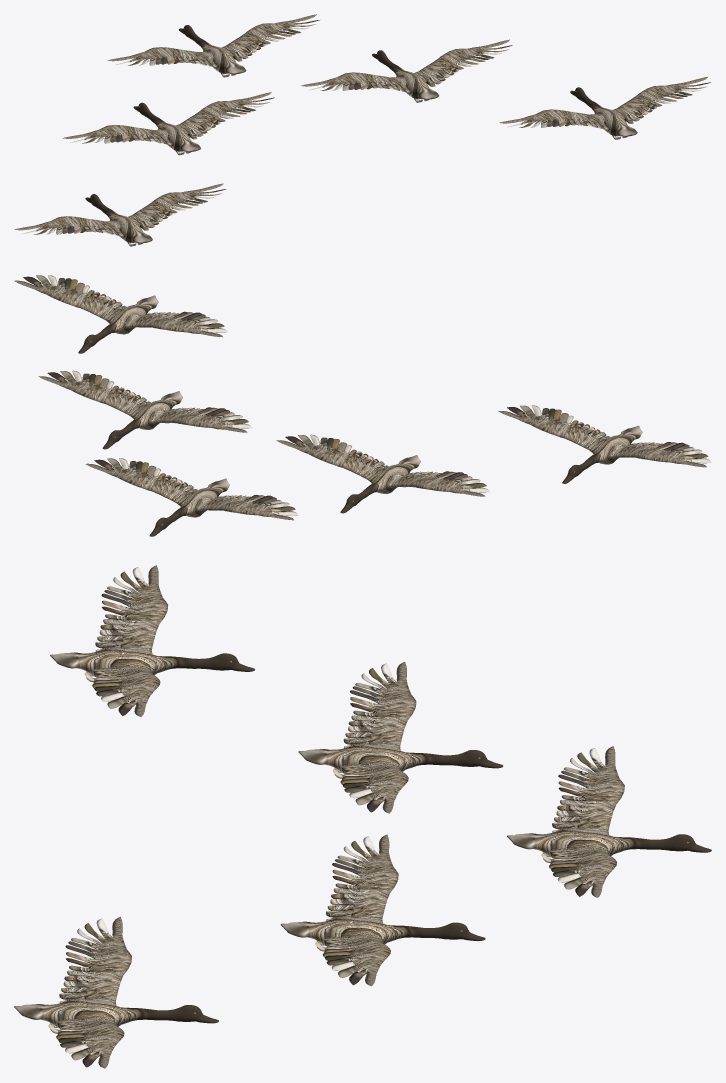
Rendered from birds.obj.
The picture shows the model from 3 angles, top to bottom: view 1: azimuth 30°, elevation 25°; view 2: azimuth 150°, elevation 25°; view 3: azimuth 270°, elevation 25°; orthographic projection. The views are drawn at different scales.
Visible parts, largest first — view 1: GOOSE.004; view 2: GOOSE.004; view 3: GOOSE.004.
Part boxes in pixels (<box>): GOOSE.004: <box>14,14,710,246</box>; GOOSE.004: <box>14,275,711,536</box>; GOOSE.004: <box>14,565,711,1068</box>.
Bounding box in the file's own units: 3.93 × 0.149 × 2.3.
Materials: 1 (1 with a texture image).
